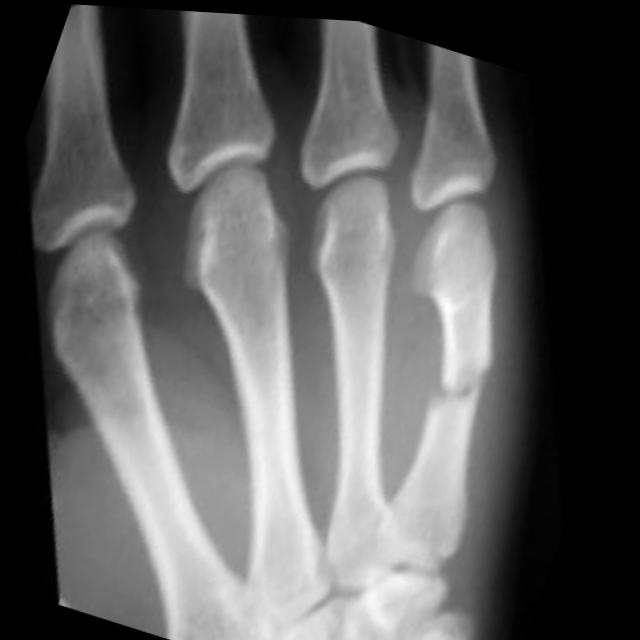fracture: (419, 336, 497, 425)
